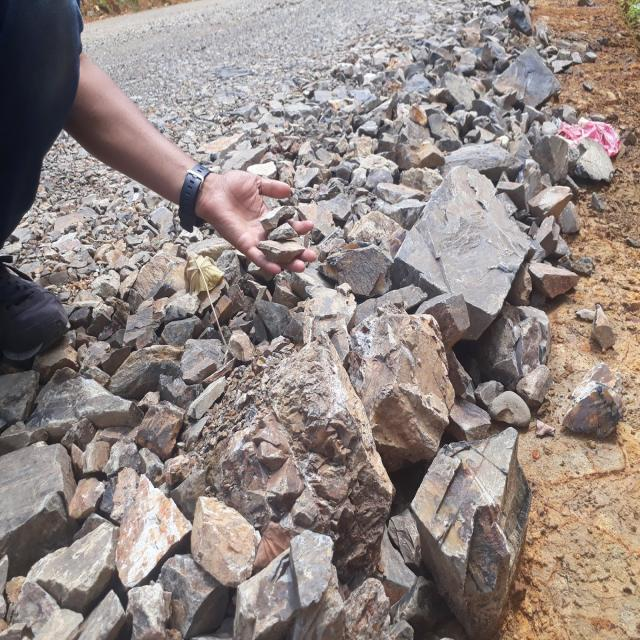Pecahan Agregat: (215, 346, 398, 556), (406, 433, 570, 618), (389, 166, 546, 344), (338, 276, 455, 470), (104, 477, 216, 589), (225, 560, 322, 640), (42, 547, 148, 618), (185, 485, 266, 575), (264, 531, 350, 610), (114, 391, 204, 466), (9, 440, 79, 531), (482, 364, 564, 441), (44, 379, 129, 446), (490, 48, 582, 105), (324, 239, 394, 304), (562, 361, 625, 433), (578, 289, 632, 367), (125, 577, 187, 640), (3, 375, 75, 429), (122, 342, 185, 397), (348, 574, 399, 640), (174, 326, 223, 392), (143, 400, 197, 454), (574, 133, 622, 193), (381, 504, 426, 566), (126, 248, 174, 306), (286, 159, 342, 207), (240, 232, 314, 268), (288, 90, 342, 132), (394, 101, 446, 140), (122, 303, 164, 348), (411, 136, 459, 175), (202, 136, 262, 166), (70, 341, 114, 380), (358, 58, 397, 96), (326, 158, 370, 187), (257, 200, 293, 232), (456, 96, 494, 125), (351, 166, 382, 198), (375, 127, 404, 149)
